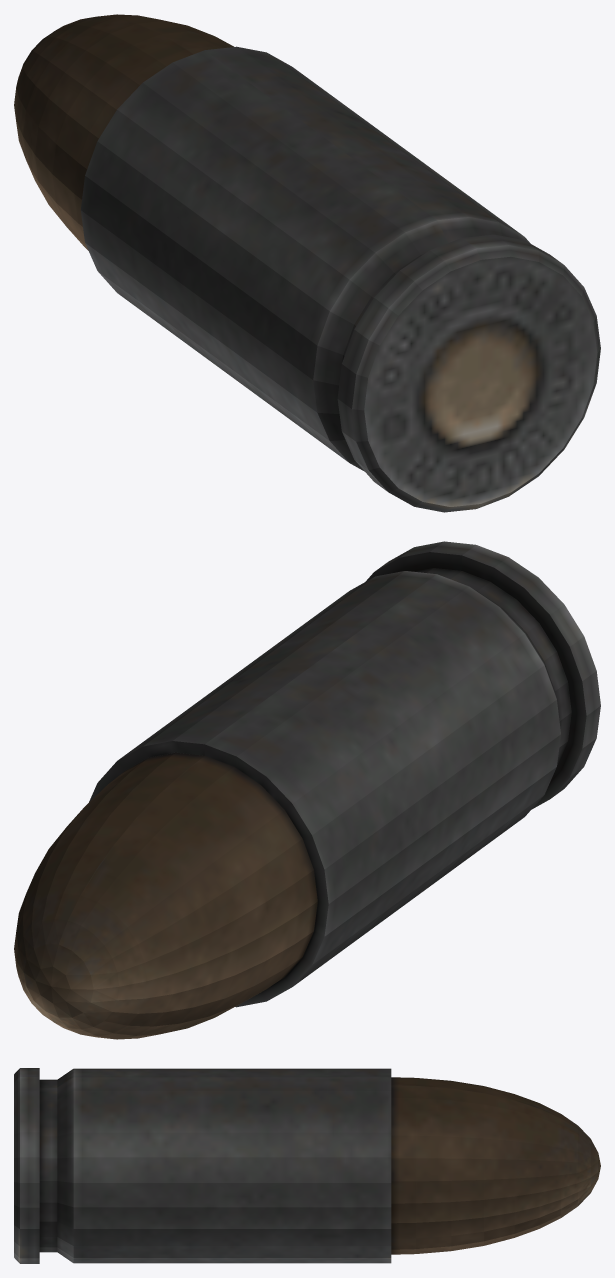
The picture shows the model from 3 angles, top to bottom: view 1: azimuth 30°, elevation 25°; view 2: azimuth 150°, elevation 25°; view 3: azimuth 270°, elevation 25°; orthographic projection. The views are drawn at different scales.
Visible parts, largest first — view 1: TW_58864a4f2459770fcc257101_PZ_Import; view 2: TW_58864a4f2459770fcc257101_PZ_Import; view 3: TW_58864a4f2459770fcc257101_PZ_Import.
Boxes of the visible parts, <box> form: TW_58864a4f2459770fcc257101_PZ_Import: <box>14,14,600,512</box>; TW_58864a4f2459770fcc257101_PZ_Import: <box>14,541,600,1039</box>; TW_58864a4f2459770fcc257101_PZ_Import: <box>14,1068,600,1263</box>.
Size of the model in its own units: 0.00576 by 0.0172 by 0.00576.
1 material, 1 textured.
